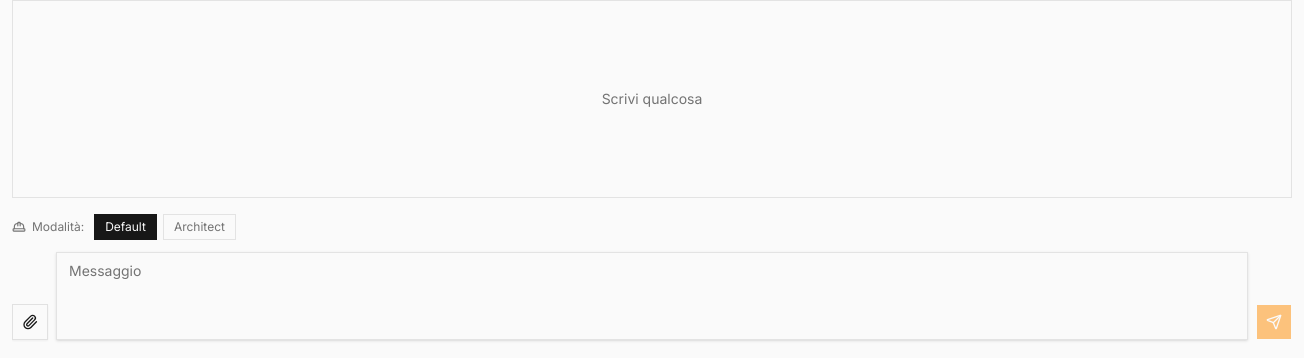
Scenario: AgentChatPanel - mode switch clears history › azzera la cronologia quando si cambia da Default ad Architect
Type "Ciao Horus" into the text box with placeholder "Messaggio" at (652, 296), box [56, 252, 1248, 340]
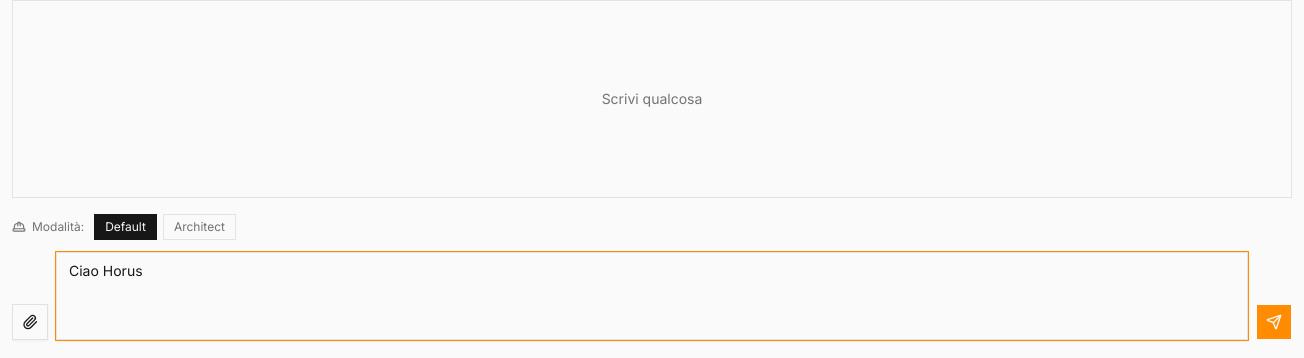
Click the 4th button at (1274, 322), box [1256, 304, 1292, 340]
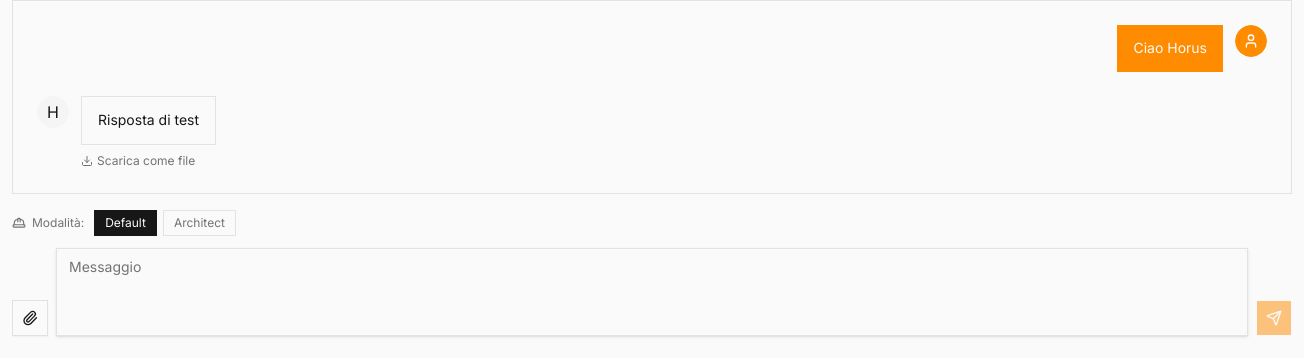
expect the text "Risposta di test" is shown: met, box [81, 96, 216, 145]
expect the text "Ciao Horus" is shown: met, box [1117, 25, 1223, 72]
Click the button "Architect" at (199, 222), box [163, 210, 236, 236]
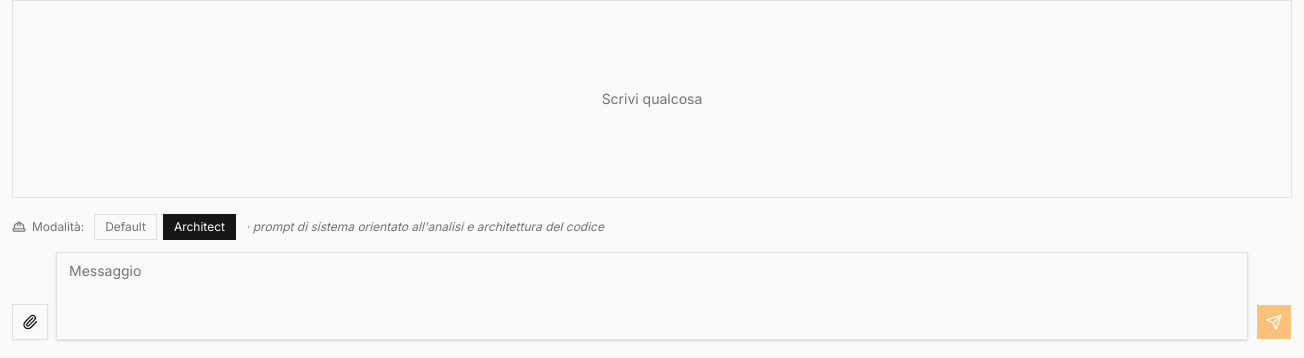
expect the text "Ciao Horus" is gone: met
expect the text "Risposta di test" is gone: met
expect the text "Scrivi qualcosa" is shown: met, box [602, 90, 702, 107]
